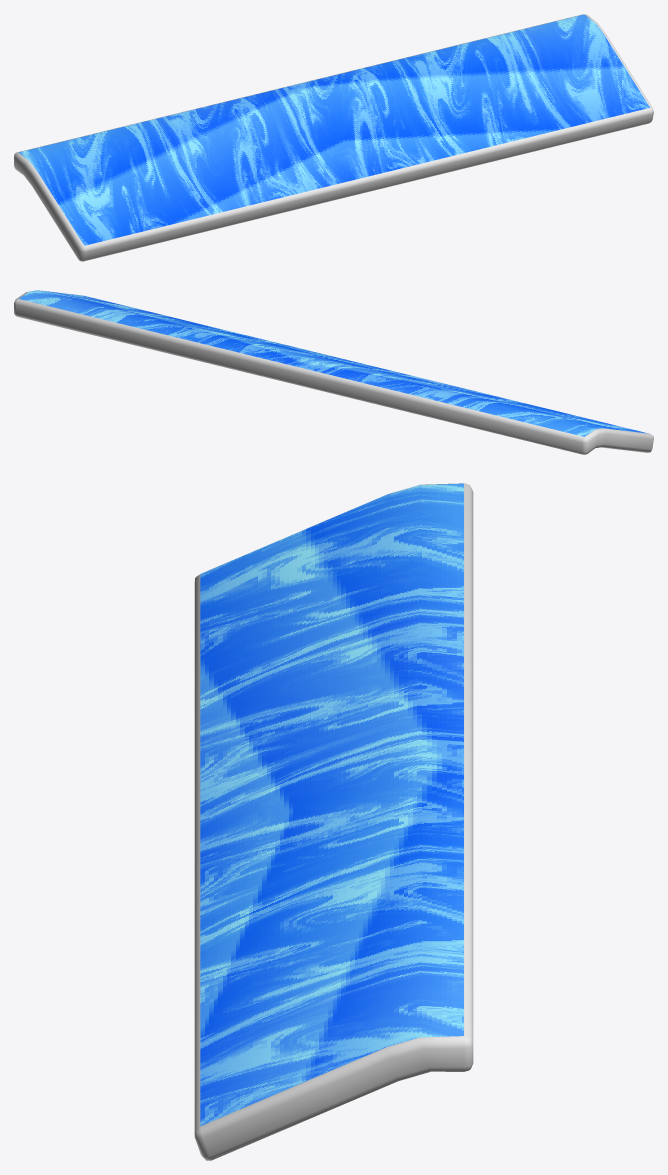
Rendered from jump-panel.glb.
3 renders of one model, top to bottom at view 1: azimuth 30°, elevation 25°; view 2: azimuth 150°, elevation 25°; view 3: azimuth 270°, elevation 25°, orthographic. The views are drawn at different scales.
Visible parts, largest first — view 1: Cube; view 2: Cube; view 3: Cube.
Part boxes in pixels (left/top/right/bottom): Cube: left=14, top=14, right=653, bottom=261; Cube: left=14, top=290, right=653, bottom=454; Cube: left=194, top=483, right=473, bottom=1160.
Size of the model in its own units: 9.1 by 0.9409 by 1.91.
Materials: 2 (1 with a texture image).
